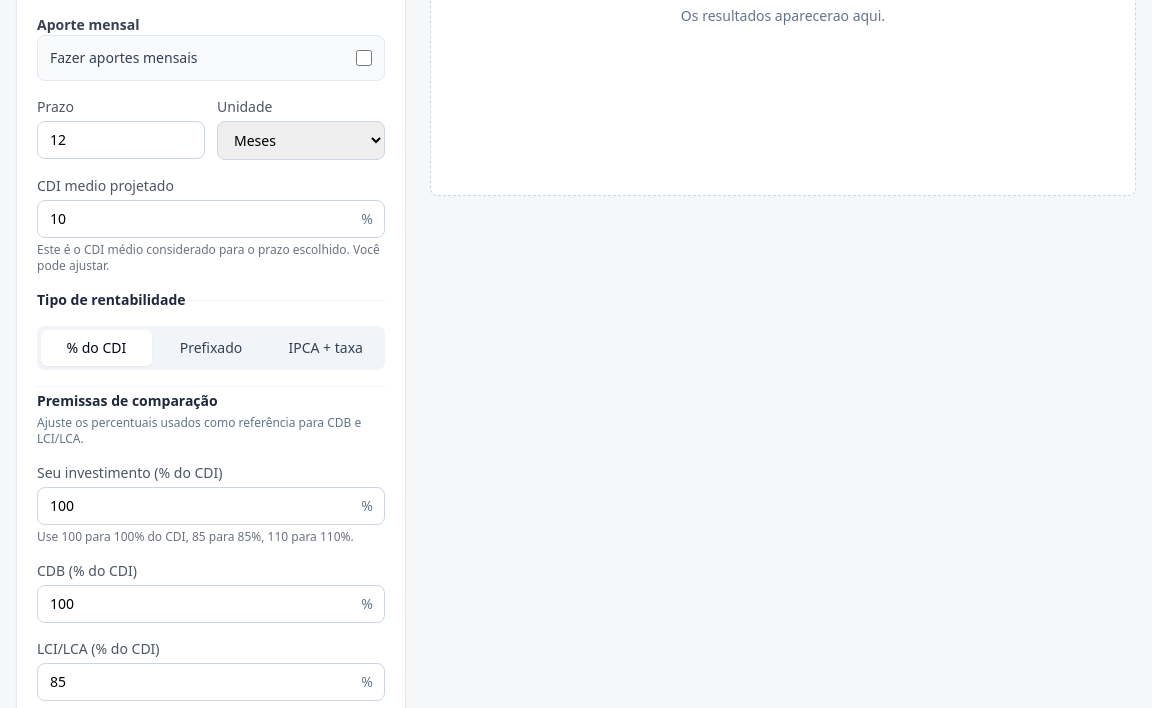
Scenario: InvestimentosPage › shows IPCA input only for IPCA plus simulations
This screenshot has width=1152, height=708.
(page scrolled)
Check: the field labelled "IPCA anual" is not shown
Step 1. Click the radio button labelled "IPCA + taxa" → (326,348), box [288,338,363,357]
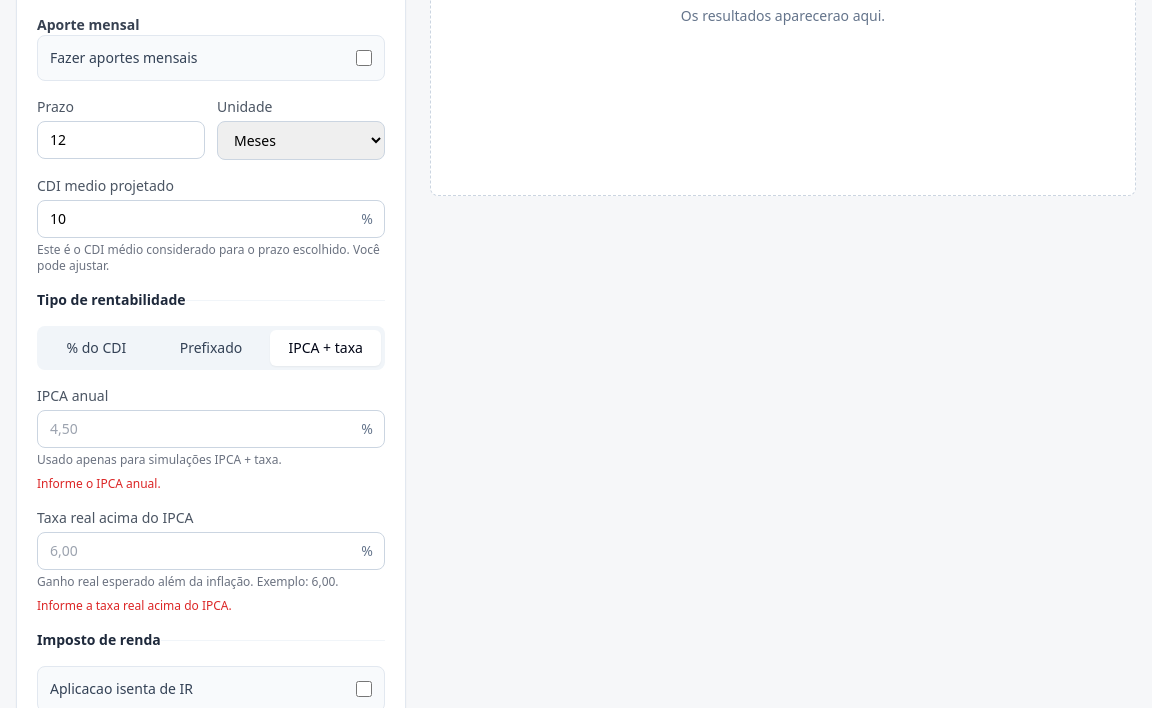
Check: the field labelled "IPCA anual" is shown, box [37,410,385,448]
